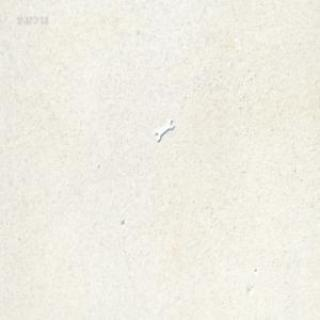Wrenchtrack_idkeyframe: (154, 117, 174, 140)
